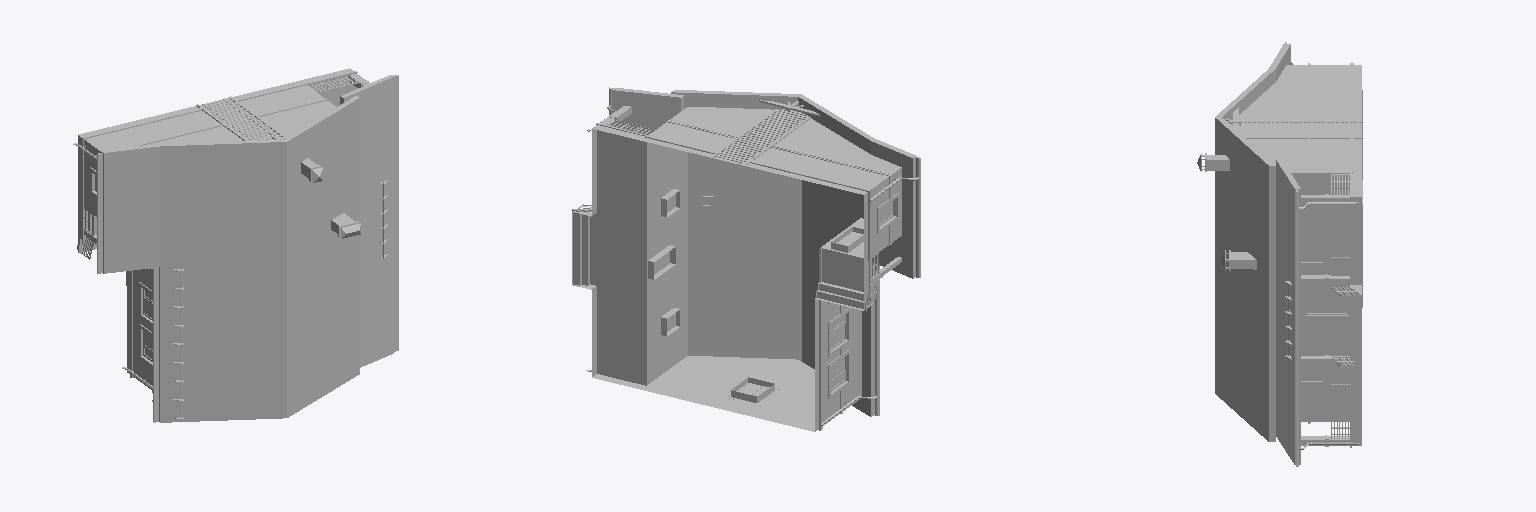
Rendered from epulet.obj.
3 views of the same model, side by side, from view 1: azimuth 30°, elevation 25°; view 2: azimuth 150°, elevation 25°; view 3: azimuth 270°, elevation 25° (orthographic).
Parts seen in each view (by area): view 1: Cottage_Free; view 2: Cottage_Free; view 3: Cottage_Free.
Boxes of the visible parts, box(x1,y1,x2,y2) form: Cottage_Free: box(73, 68, 398, 422); Cottage_Free: box(572, 87, 920, 431); Cottage_Free: box(1197, 42, 1362, 466).
Bounding box in the file's own units: 14.65 × 12.44 × 6.75.